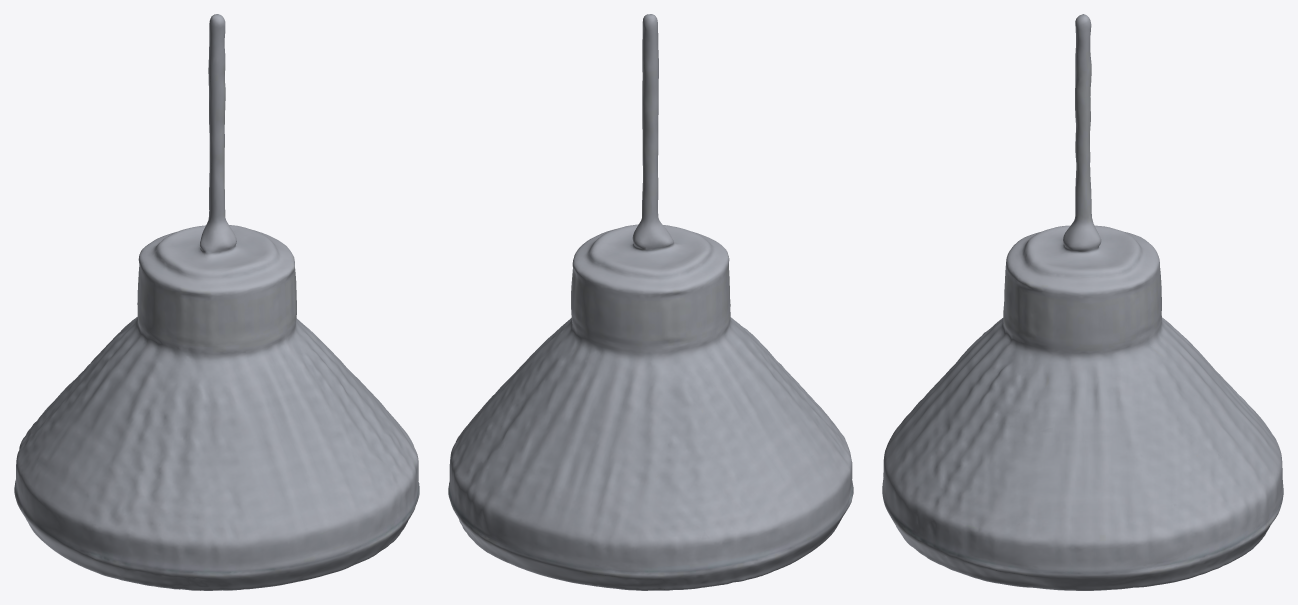
The model's file is f663ae39759a_lamp__3d_asset_0_gl.fbx.
The picture shows the model from 3 angles, left to right: view 1: azimuth 30°, elevation 25°; view 2: azimuth 150°, elevation 25°; view 3: azimuth 270°, elevation 25°; orthographic projection.
Parts seen in each view (by area): view 1: high_poly; view 2: high_poly; view 3: high_poly.
Part boxes in pixels (x1,y1,x2,y2): high_poly: (14, 14, 419, 590); high_poly: (448, 14, 853, 590); high_poly: (882, 14, 1283, 590).
Size of the model in its own units: 73.44 by 100 by 73.19.
